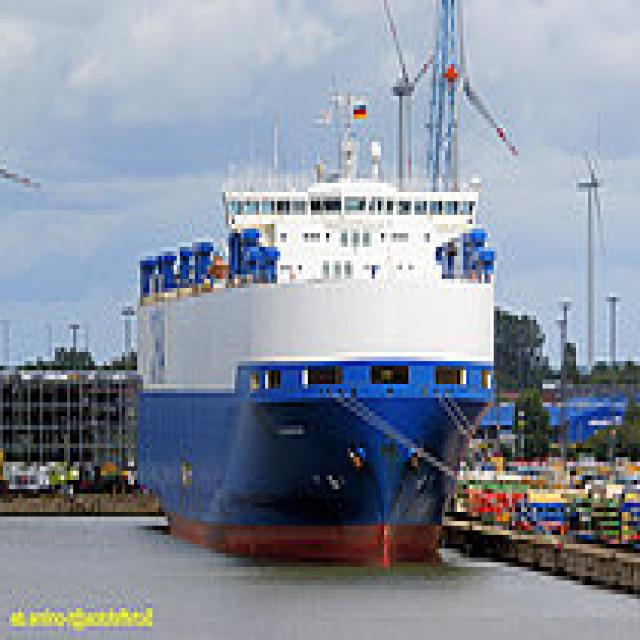Carrier: (134, 110, 506, 576)
